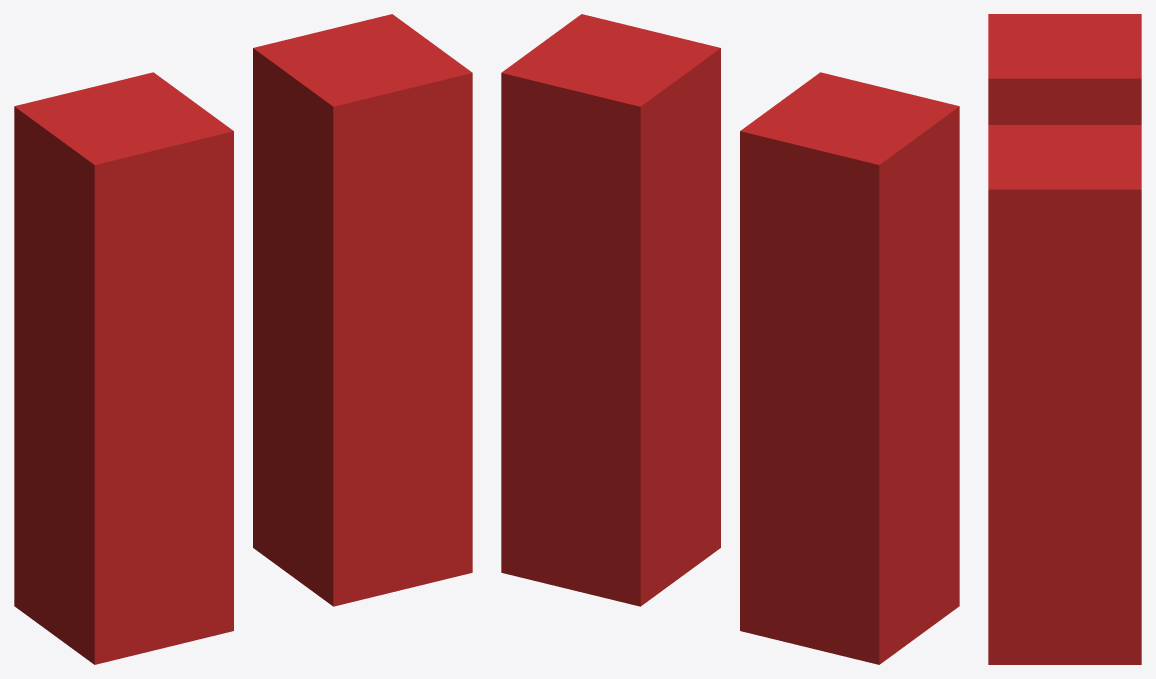
The model's file is skomma__male_red_leg_01.glb.
3 views of the same model, side by side, from view 1: azimuth 30°, elevation 25°; view 2: azimuth 150°, elevation 25°; view 3: azimuth 270°, elevation 25° (orthographic). The views are drawn at different scales.
Visible parts, largest first — view 1: Left_Leg, Right_Leg; view 2: Left_Leg, Right_Leg; view 3: Right_Leg, Left_Leg.
Boxes of the visible parts, x1,y1,x2,y2 form: Left_Leg: [14, 72, 233, 664]; Right_Leg: [253, 14, 472, 606]; Left_Leg: [740, 72, 959, 664]; Right_Leg: [501, 14, 720, 606]; Right_Leg: [988, 125, 1141, 664]; Left_Leg: [988, 14, 1141, 124].
Size of the model in its own units: 0.95 by 1.2 by 0.35.
